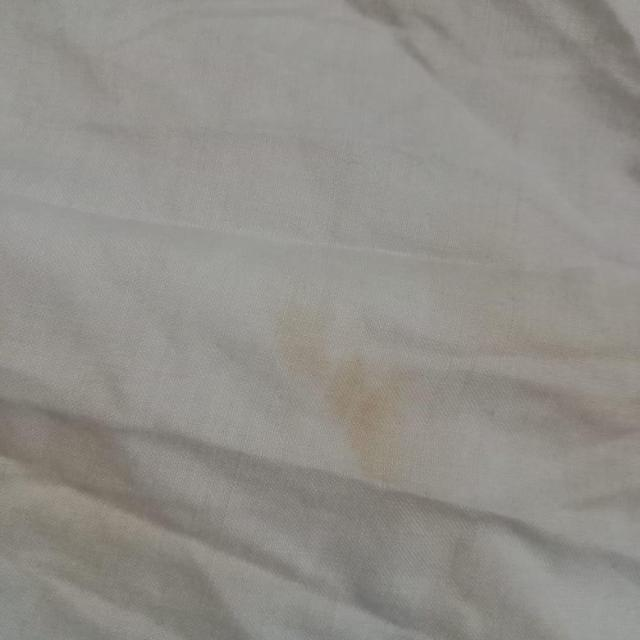stain: (249, 273, 640, 475), (3, 378, 146, 560)
